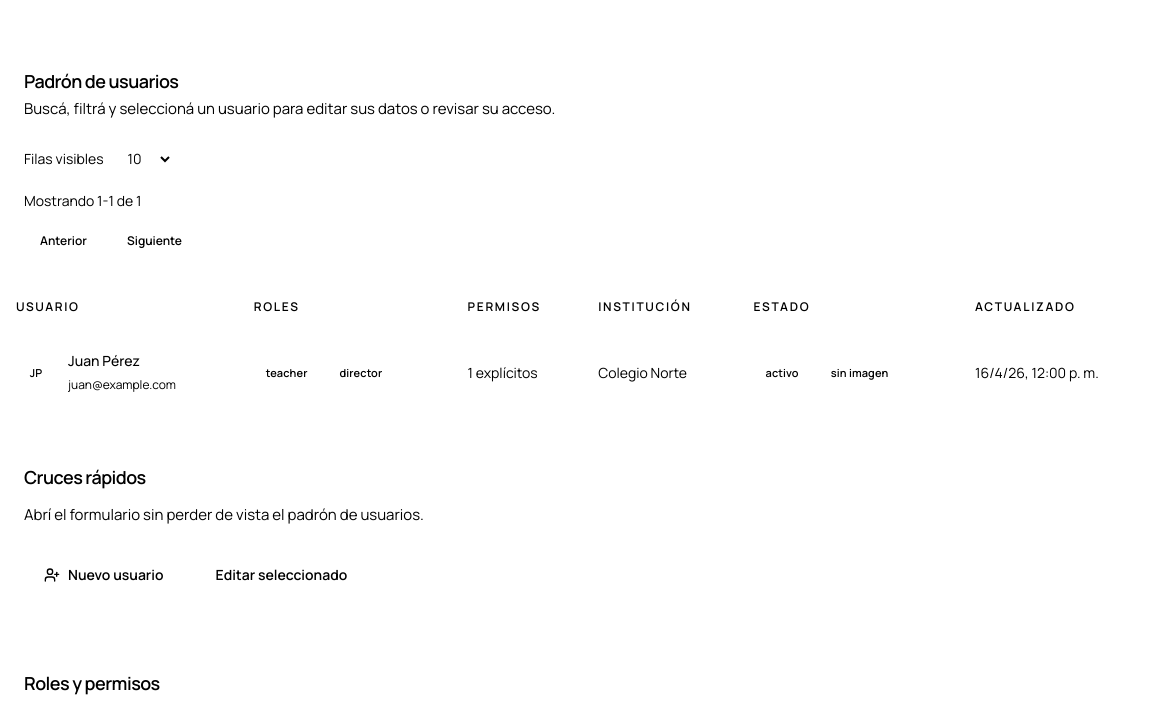
Test case: UsersTable › adapts the ACL UI to a single institution scope
(page scrolled)
Click the text "Juan Pérez".
click(104, 360)  # box 68,350 -> 140,370
(page scrolled)
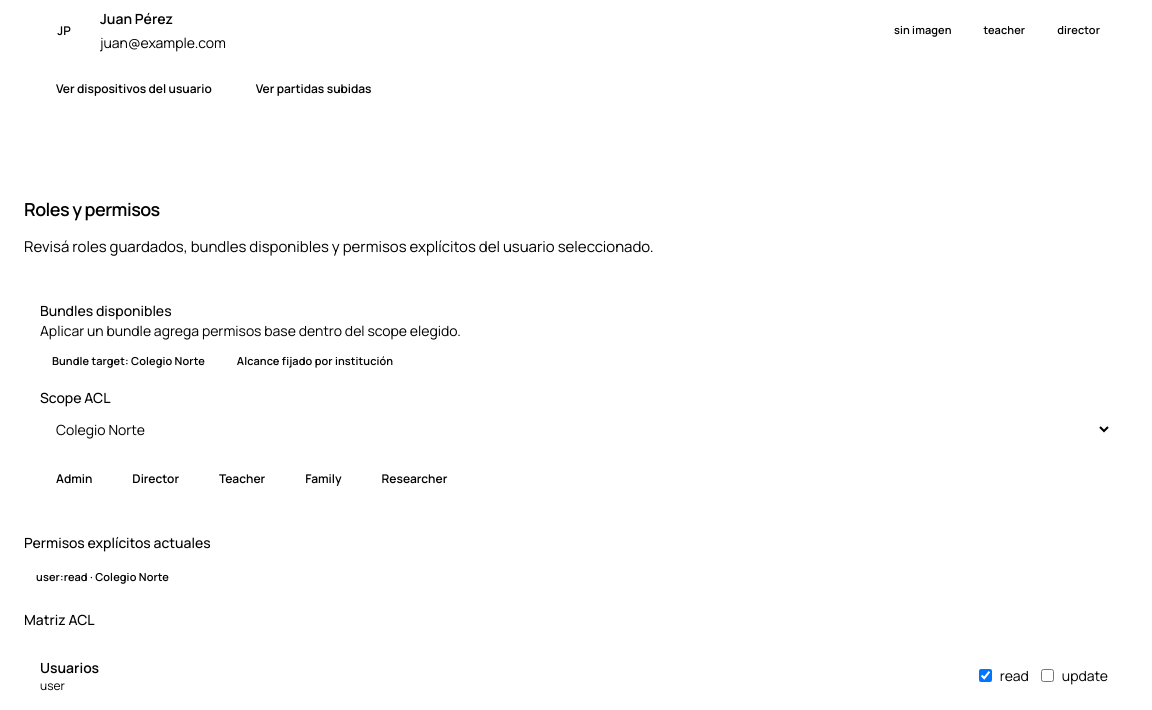
expect the text "Alcance fijado por institución" is shown: met, box 225,348 -> 405,373
